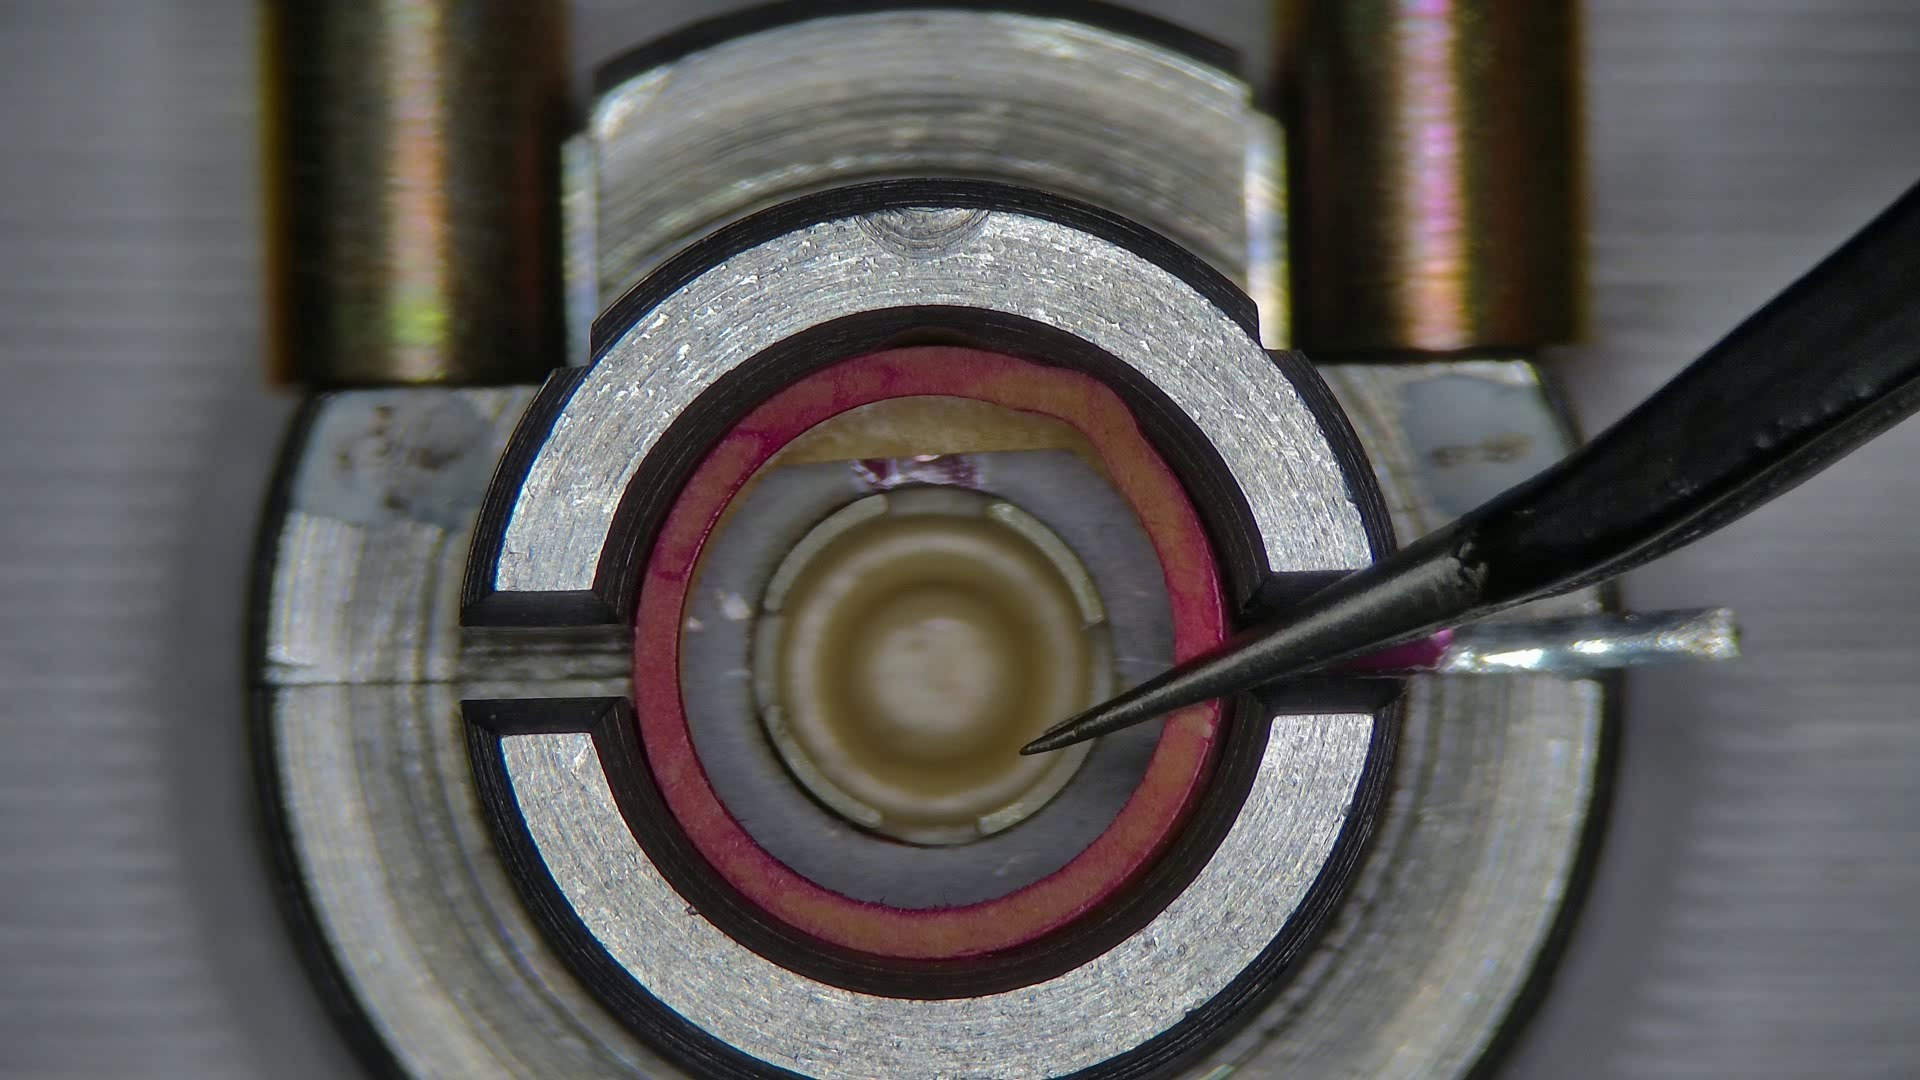GreyOring: (633, 342, 1225, 959)
YellowOring: (682, 454, 1167, 907)
redOring: (771, 396, 1098, 463)
